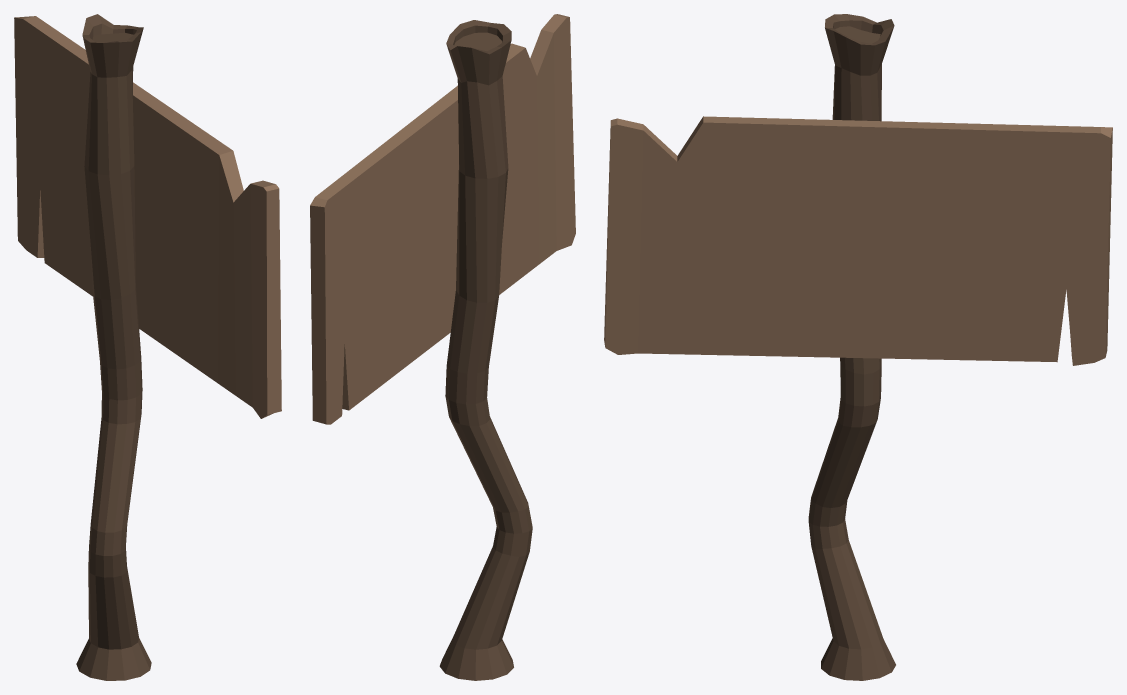
The model's file is Sign.fbx.
3 views of the same model, side by side, from view 1: azimuth 30°, elevation 25°; view 2: azimuth 150°, elevation 25°; view 3: azimuth 270°, elevation 25° (orthographic).
Parts seen in each view (by area): view 1: Cube.001; view 2: Cube.001; view 3: Cube.001.
Part boxes in pixels (bbox=[...]): Cube.001: bbox=[14, 14, 281, 680]; Cube.001: bbox=[310, 14, 575, 680]; Cube.001: bbox=[604, 14, 1112, 680].
Size of the model in its own units: 30.8 by 226 by 162.
